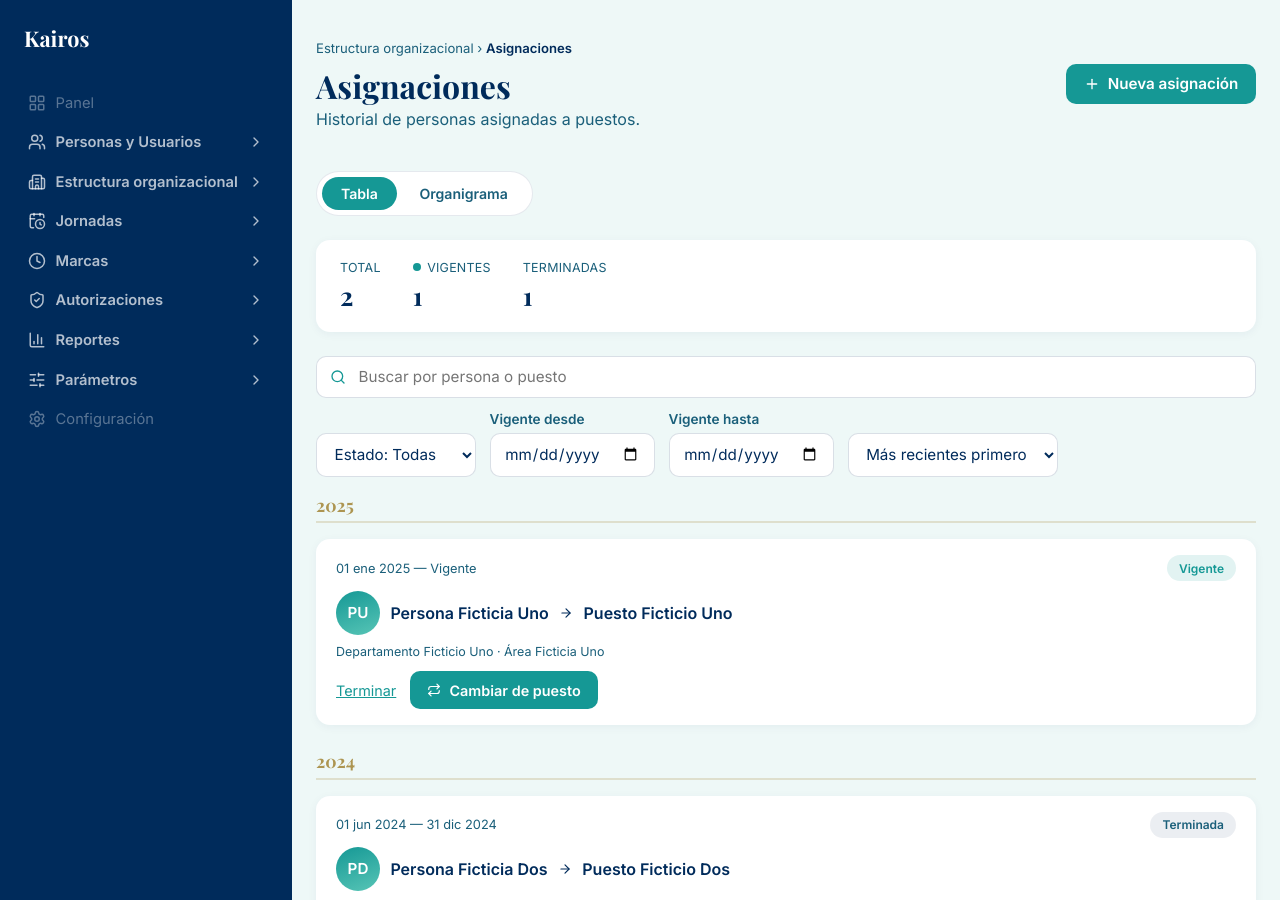
Test: AsignacionesPage › organigrama (híbrido: árbol grande con toggle + click filtra la tabla) › por defecto muestra la tabla; la pestaña 'Organigrama' muestra el árbol de puestos
Expected: the text "PU Persona Ficticia Uno Puesto Ficticio Uno" is shown, [336, 591, 732, 635]
Click the tab "Organigrama". click: {"x": 464, "y": 193}
box: [400, 177, 527, 210]
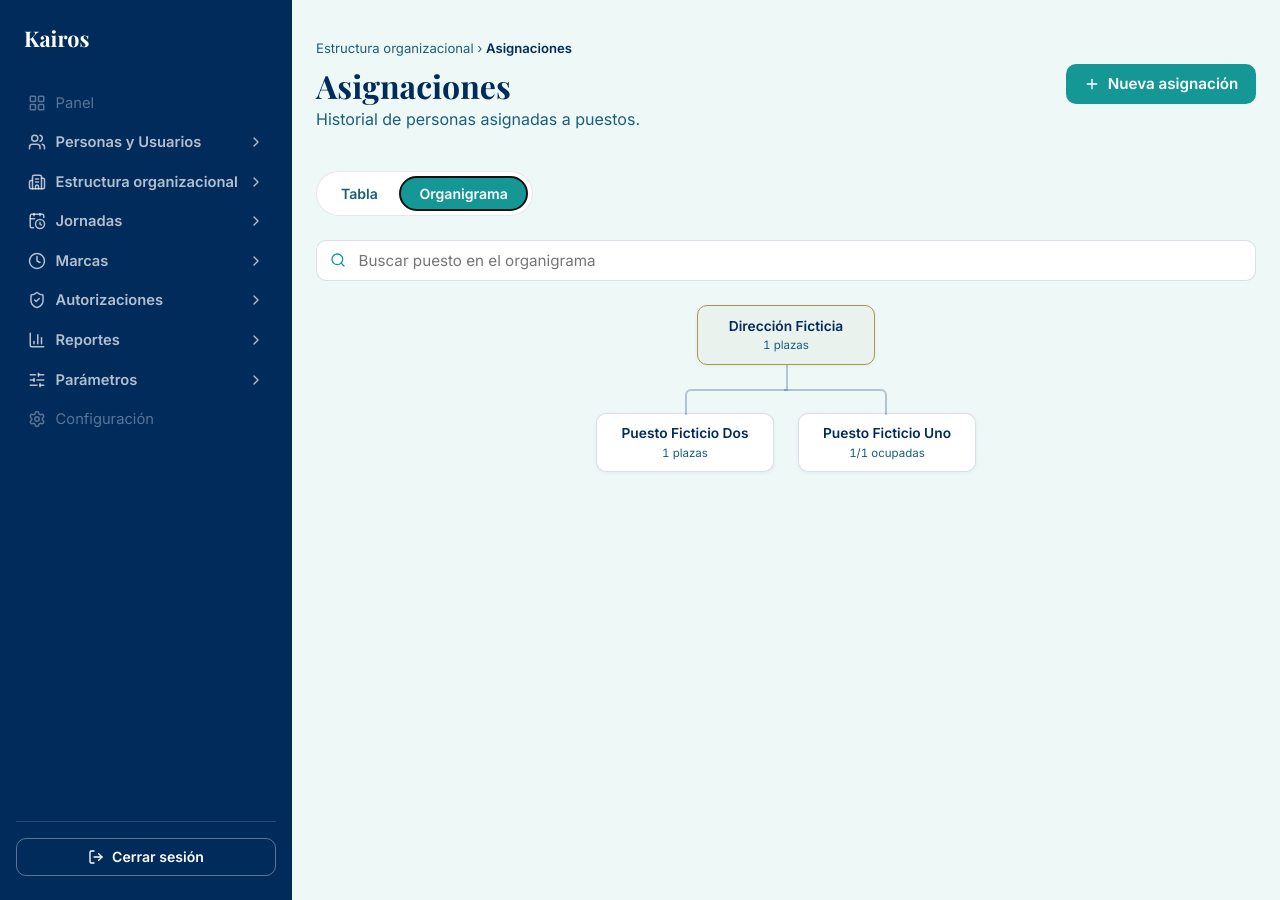
Expected: the text "Dirección Ficticia" is shown, [729, 318, 843, 334]
Expected: the text "Puesto Ficticio Uno" is shown, [823, 425, 951, 441]
Expected: the text "Persona Ficticia Uno" is gone
